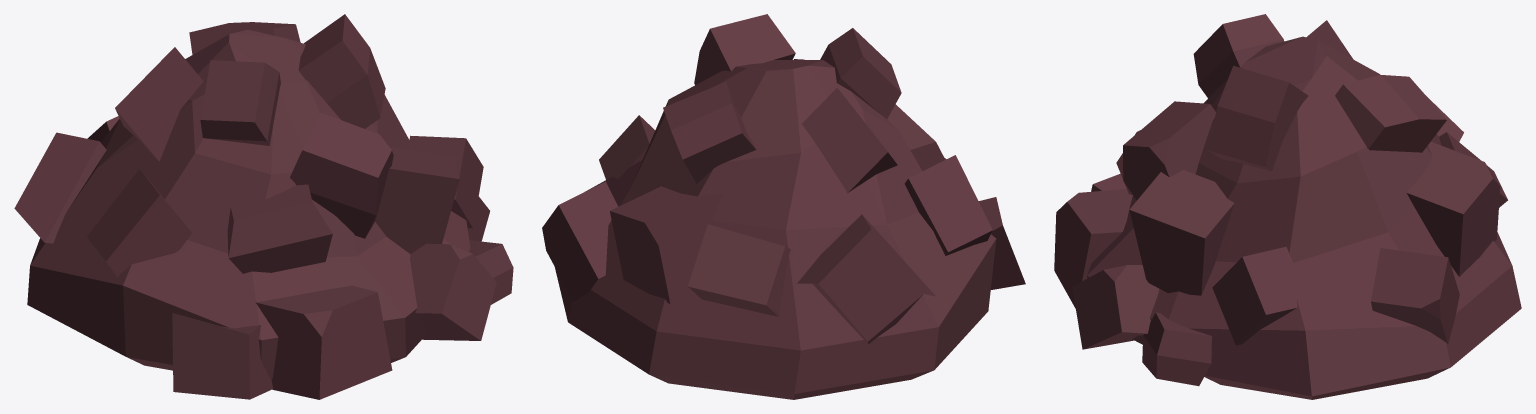
File: salt.fbx
3 views of the same model, side by side, from view 1: azimuth 30°, elevation 25°; view 2: azimuth 150°, elevation 25°; view 3: azimuth 270°, elevation 25° (orthographic). The views are drawn at different scales.
Parts seen in each view (by area): view 1: salt; view 2: salt; view 3: salt.
Boxes of the visible parts, box(x1,y1,x2,y2) form: salt: box(14, 14, 513, 399); salt: box(542, 14, 1025, 399); salt: box(1054, 14, 1521, 399).
Size of the model in its own units: 0.3274 by 0.2051 by 0.3122.
